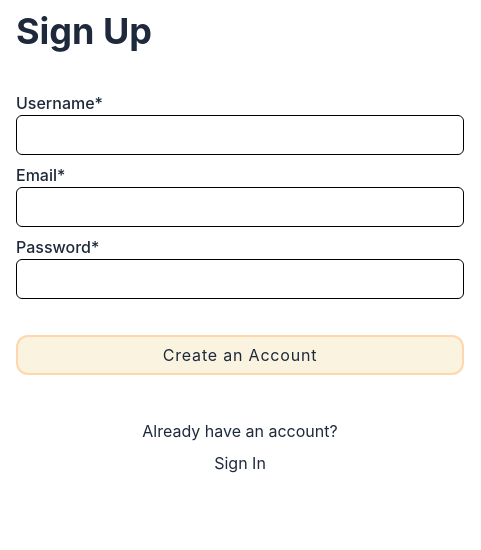
Test: <Signup /> › should not submit if no username or email is provided
Click the button.
click(240, 355)  # box [16, 335, 464, 375]
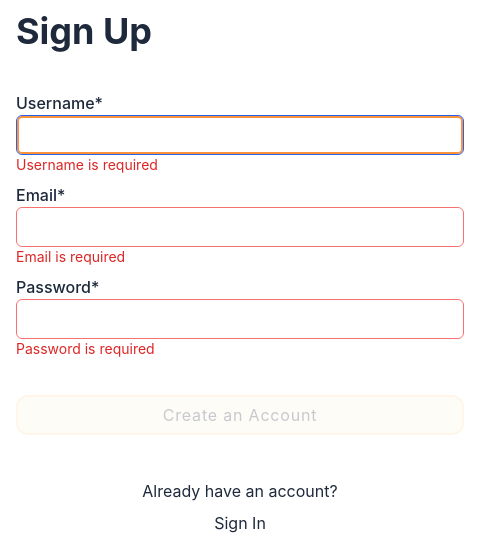
Result: the button is disabled at [16, 395, 464, 435]
Result: the number of messages is 3 at [16, 156, 158, 173]; [16, 248, 125, 265]; [16, 340, 155, 357]
